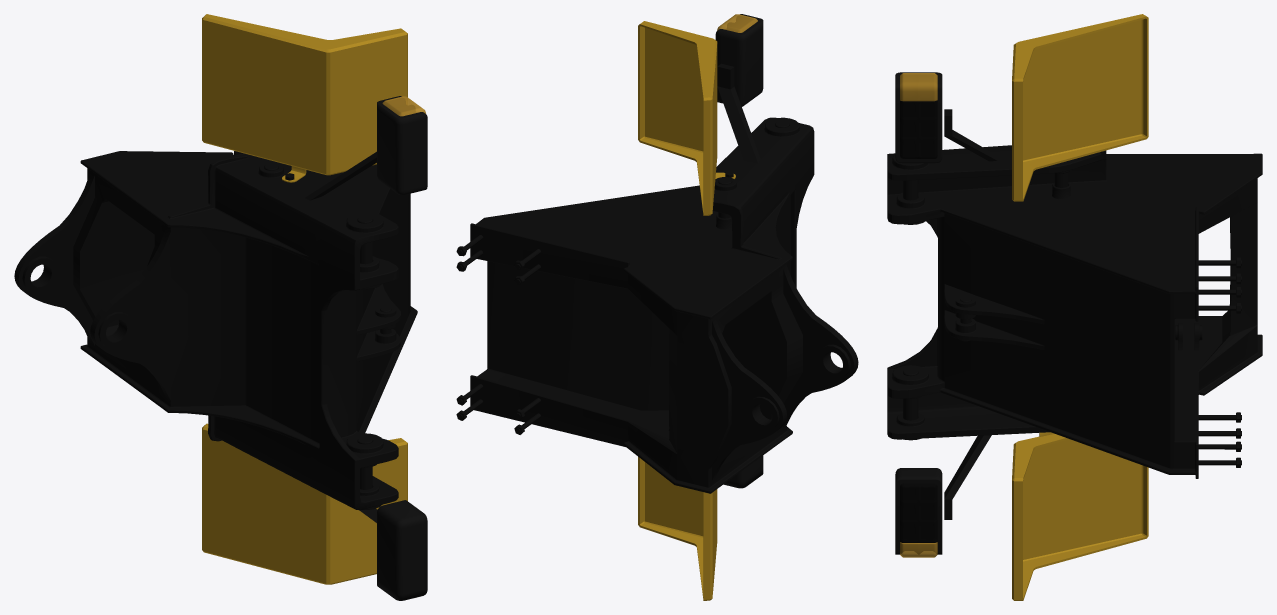
File: front_frame.obj
3 renders of one model, left to right at view 1: azimuth 30°, elevation 25°; view 2: azimuth 150°, elevation 25°; view 3: azimuth 270°, elevation 25°, orthographic. The views are drawn at different scales.
Visible parts, largest first — view 1: FrontFrame_0022, FrontFrame_0023, FrontFrame_0025, FrontFrame_0024, FrontFrame_0026, FrontFrame_0016, FrontFrame_0015, FrontFrame_0027, FrontFrame_0017; view 2: FrontFrame_0023, FrontFrame_0024, FrontFrame_0022, FrontFrame_0026, FrontFrame_0027, FrontFrame_0025, FrontFrame_0015, FrontFrame_0016; view 3: FrontFrame_0022, FrontFrame_0024, FrontFrame_0025, FrontFrame_0023, FrontFrame_0027, FrontFrame_0012, FrontFrame_0015, FrontFrame_0026, FrontFrame_0009, FrontFrame_0017, FrontFrame_0011, FrontFrame_0003 (+1 smaller).
Boxes of the visible parts, box(x1,y1,x2,y2) form: FrontFrame_0022: box(14, 151, 417, 522); FrontFrame_0023: box(18, 151, 400, 522); FrontFrame_0025: box(202, 17, 326, 583); FrontFrame_0024: box(21, 151, 417, 509); FrontFrame_0026: box(290, 34, 407, 583); FrontFrame_0016: box(398, 113, 427, 600); FrontFrame_0015: box(377, 103, 400, 600); FrontFrame_0027: box(202, 14, 407, 584); FrontFrame_0017: box(377, 96, 425, 523); FrontFrame_0023: box(456, 66, 854, 493); FrontFrame_0024: box(458, 63, 852, 493); FrontFrame_0022: box(458, 67, 858, 493); FrontFrame_0026: box(638, 24, 710, 599); FrontFrame_0027: box(640, 21, 735, 600); FrontFrame_0025: box(640, 26, 735, 600); FrontFrame_0015: box(742, 21, 763, 487); FrontFrame_0016: box(715, 30, 743, 488); FrontFrame_0022: box(887, 116, 1257, 519); FrontFrame_0024: box(887, 109, 1262, 474); FrontFrame_0025: box(1014, 16, 1148, 600); FrontFrame_0023: box(887, 130, 1262, 498); FrontFrame_0027: box(1012, 14, 1146, 600); FrontFrame_0012: box(901, 101, 936, 542); FrontFrame_0015: box(895, 88, 942, 554); FrontFrame_0026: box(1012, 18, 1146, 600); FrontFrame_0009: box(902, 73, 935, 557); FrontFrame_0017: box(895, 72, 942, 479); FrontFrame_0011: box(901, 73, 936, 556); FrontFrame_0003: box(900, 88, 936, 552).
Bounding box in the file's own units: 1.78 × 2.52 × 1.64.
